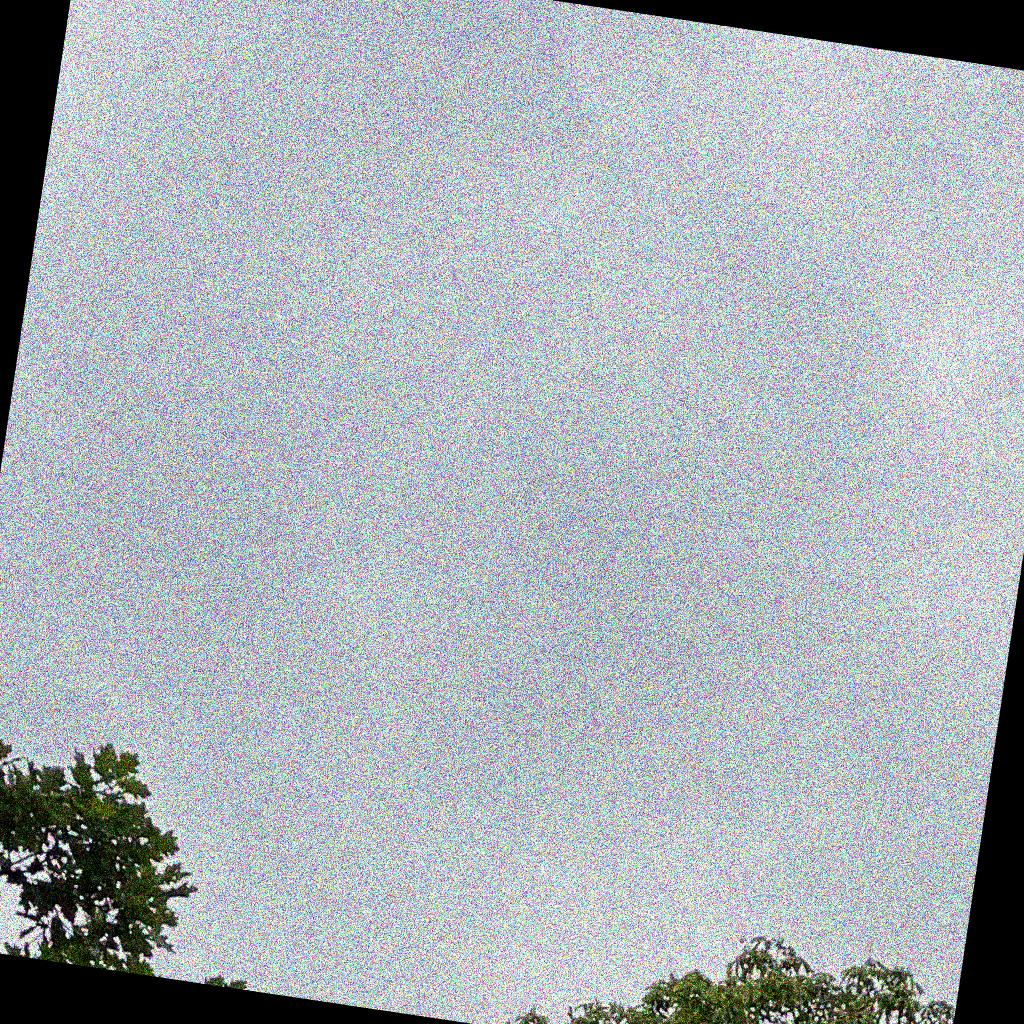tree: (1, 740, 249, 992), (505, 936, 955, 1024)
